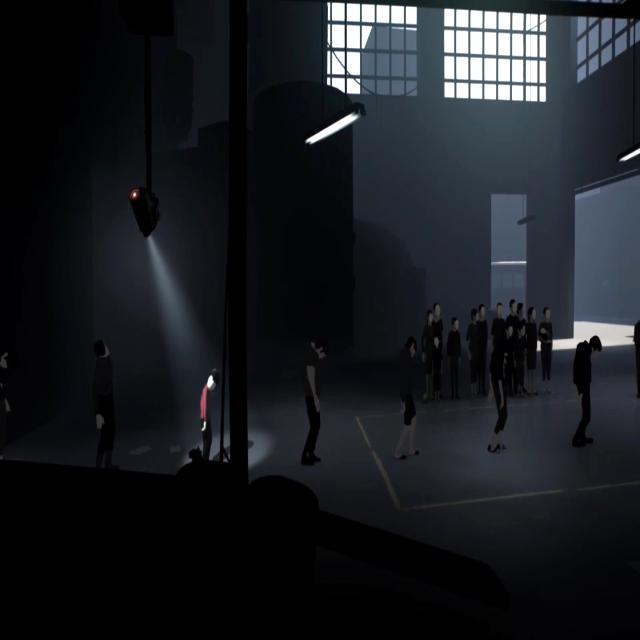boy: (200, 368, 218, 461)
human: (539, 305, 553, 397), (447, 317, 461, 401), (466, 309, 479, 399), (421, 311, 433, 402), (526, 306, 538, 396), (433, 334, 443, 402), (491, 302, 505, 349), (506, 299, 518, 323)
zombie: (301, 335, 327, 466), (398, 339, 424, 459), (572, 336, 600, 446), (93, 339, 116, 470), (488, 344, 509, 454), (0, 349, 15, 464)
